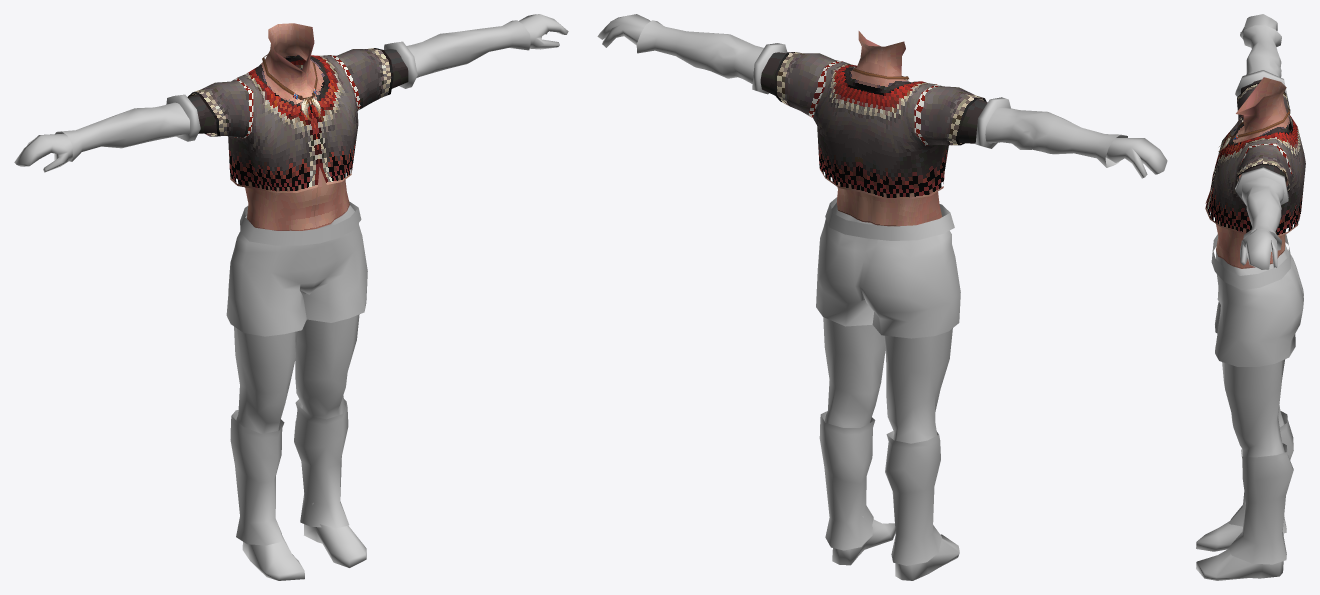
File: m_body027.obj
3 views of the same model, side by side, from view 1: azimuth 30°, elevation 25°; view 2: azimuth 150°, elevation 25°; view 3: azimuth 270°, elevation 25° (orthographic). The views are drawn at different scales.
Visible parts, largest first — view 1: editpl_m-0000-11, editpl_m-0000-10, editpl_m-0000-9; view 2: editpl_m-0000-11, editpl_m-0000-10, editpl_m-0000-9; view 3: editpl_m-0000-11, editpl_m-0000-10, editpl_m-0000-9.
Boxes of the visible parts, x1,y1,x2,y2 form: editpl_m-0000-11: (226, 201, 367, 580); editpl_m-0000-10: (187, 23, 408, 230); editpl_m-0000-9: (14, 14, 568, 172); editpl_m-0000-11: (816, 197, 960, 580); editpl_m-0000-10: (760, 31, 987, 226); editpl_m-0000-9: (597, 14, 1167, 178); editpl_m-0000-11: (1196, 234, 1303, 580); editpl_m-0000-10: (1205, 77, 1305, 268); editpl_m-0000-9: (1235, 14, 1288, 269).
Size of the model in its own units: 177 by 159 by 33.49.
